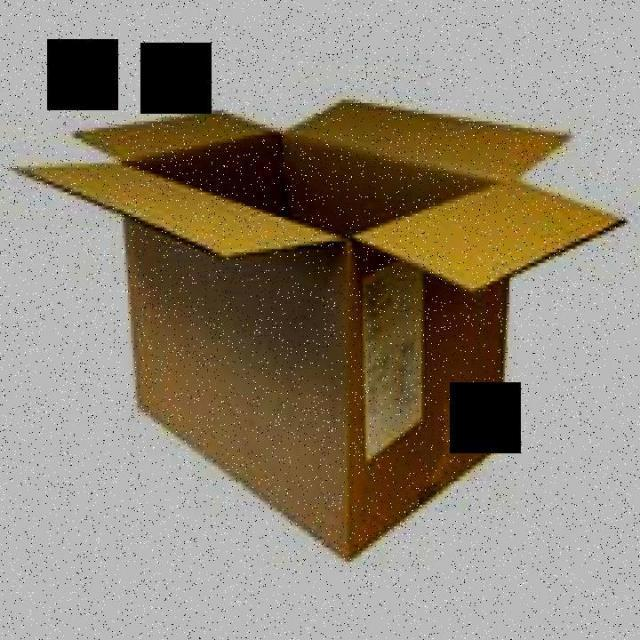box: (1, 68, 638, 564)
